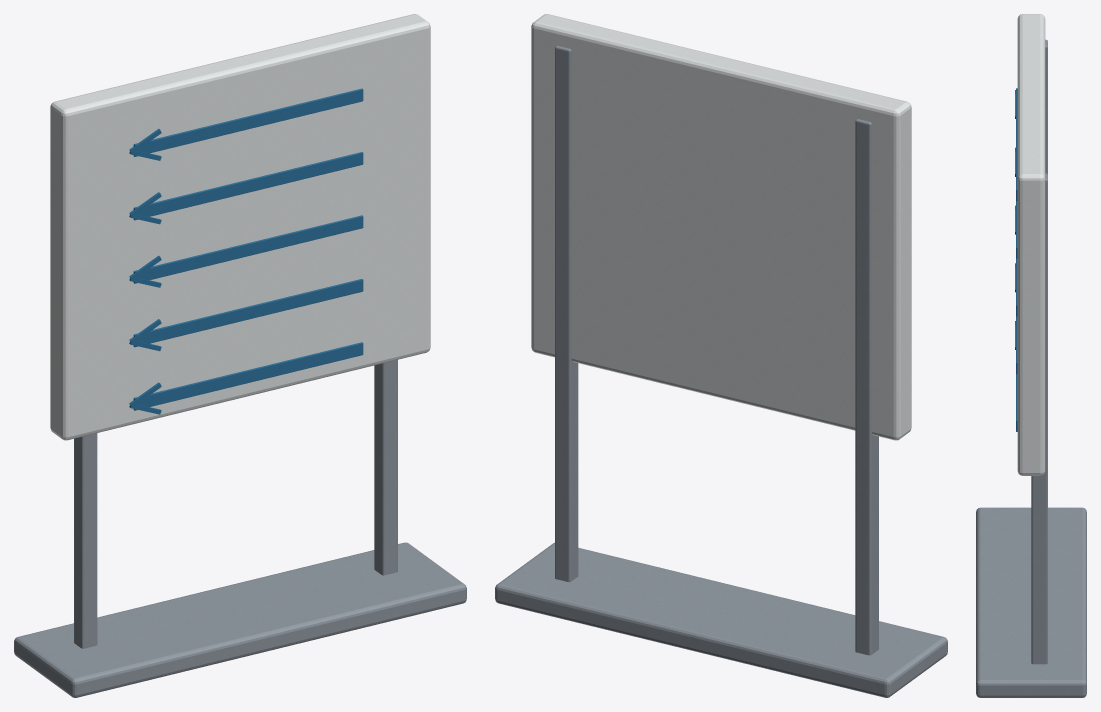
Rendered from information-board.glb.
3 views of the same model, side by side, from view 1: azimuth 30°, elevation 25°; view 2: azimuth 150°, elevation 25°; view 3: azimuth 270°, elevation 25° (orthographic). The views are drawn at different scales.
Visible parts, largest first — view 1: Information display cabinet, Information display plinth, Information board post, Information board post.001, Original wayfinding bar, Original wayfinding bar.002, Original wayfinding bar.003, Original wayfinding bar.004, Original wayfinding bar.001; view 2: Information display cabinet, Information display plinth, Information board post, Information board post.001; view 3: Information display plinth, Information display cabinet, Information board post.001, Information board post, Original wayfinding bar.
Part boxes in pixels (x1=…): Information display cabinet: x1=50, y1=14, x2=430, y2=440; Information display plinth: x1=14, y1=542, x2=466, y2=697; Information board post: x1=74, y1=433, x2=97, y2=648; Information board post.001: x1=374, y1=360, x2=397, y2=575; Original wayfinding bar: x1=133, y1=88, x2=363, y2=156; Original wayfinding bar.002: x1=133, y1=215, x2=363, y2=283; Original wayfinding bar.003: x1=133, y1=279, x2=363, y2=347; Original wayfinding bar.004: x1=133, y1=342, x2=363, y2=410; Original wayfinding bar.001: x1=133, y1=152, x2=363, y2=220; Information display cabinet: x1=531, y1=14, x2=911, y2=440; Information display plinth: x1=495, y1=542, x2=947, y2=697; Information board post: x1=855, y1=119, x2=878, y2=655; Information board post.001: x1=555, y1=45, x2=578, y2=582; Information display plinth: x1=976, y1=507, x2=1086, y2=697; Information display cabinet: x1=1017, y1=14, x2=1045, y2=475; Information board post.001: x1=1031, y1=173, x2=1047, y2=664; Information board post: x1=1045, y1=39, x2=1047, y2=173; Original wayfinding bar: x1=1016, y1=88, x2=1017, y2=200.
Bounding box in the file's own units: 1.5 × 2.06 × 0.4.
3 materials, 3 textured.
